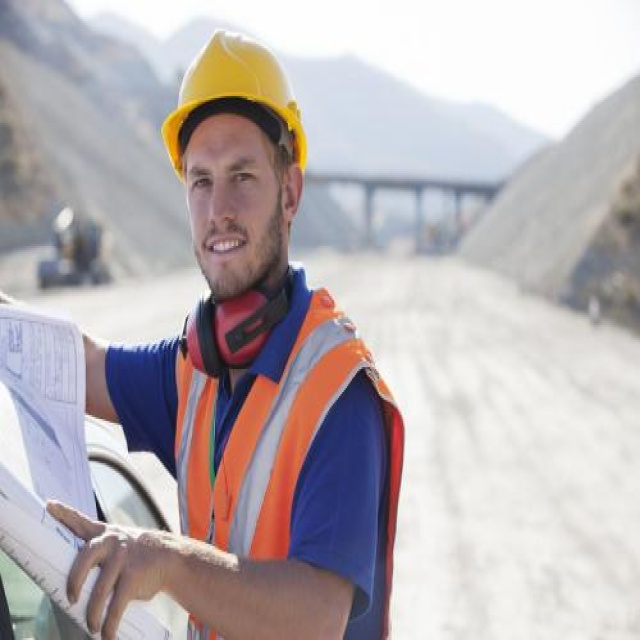Helmet: (127, 7, 351, 325)
Reflective vest: (161, 277, 408, 640)
